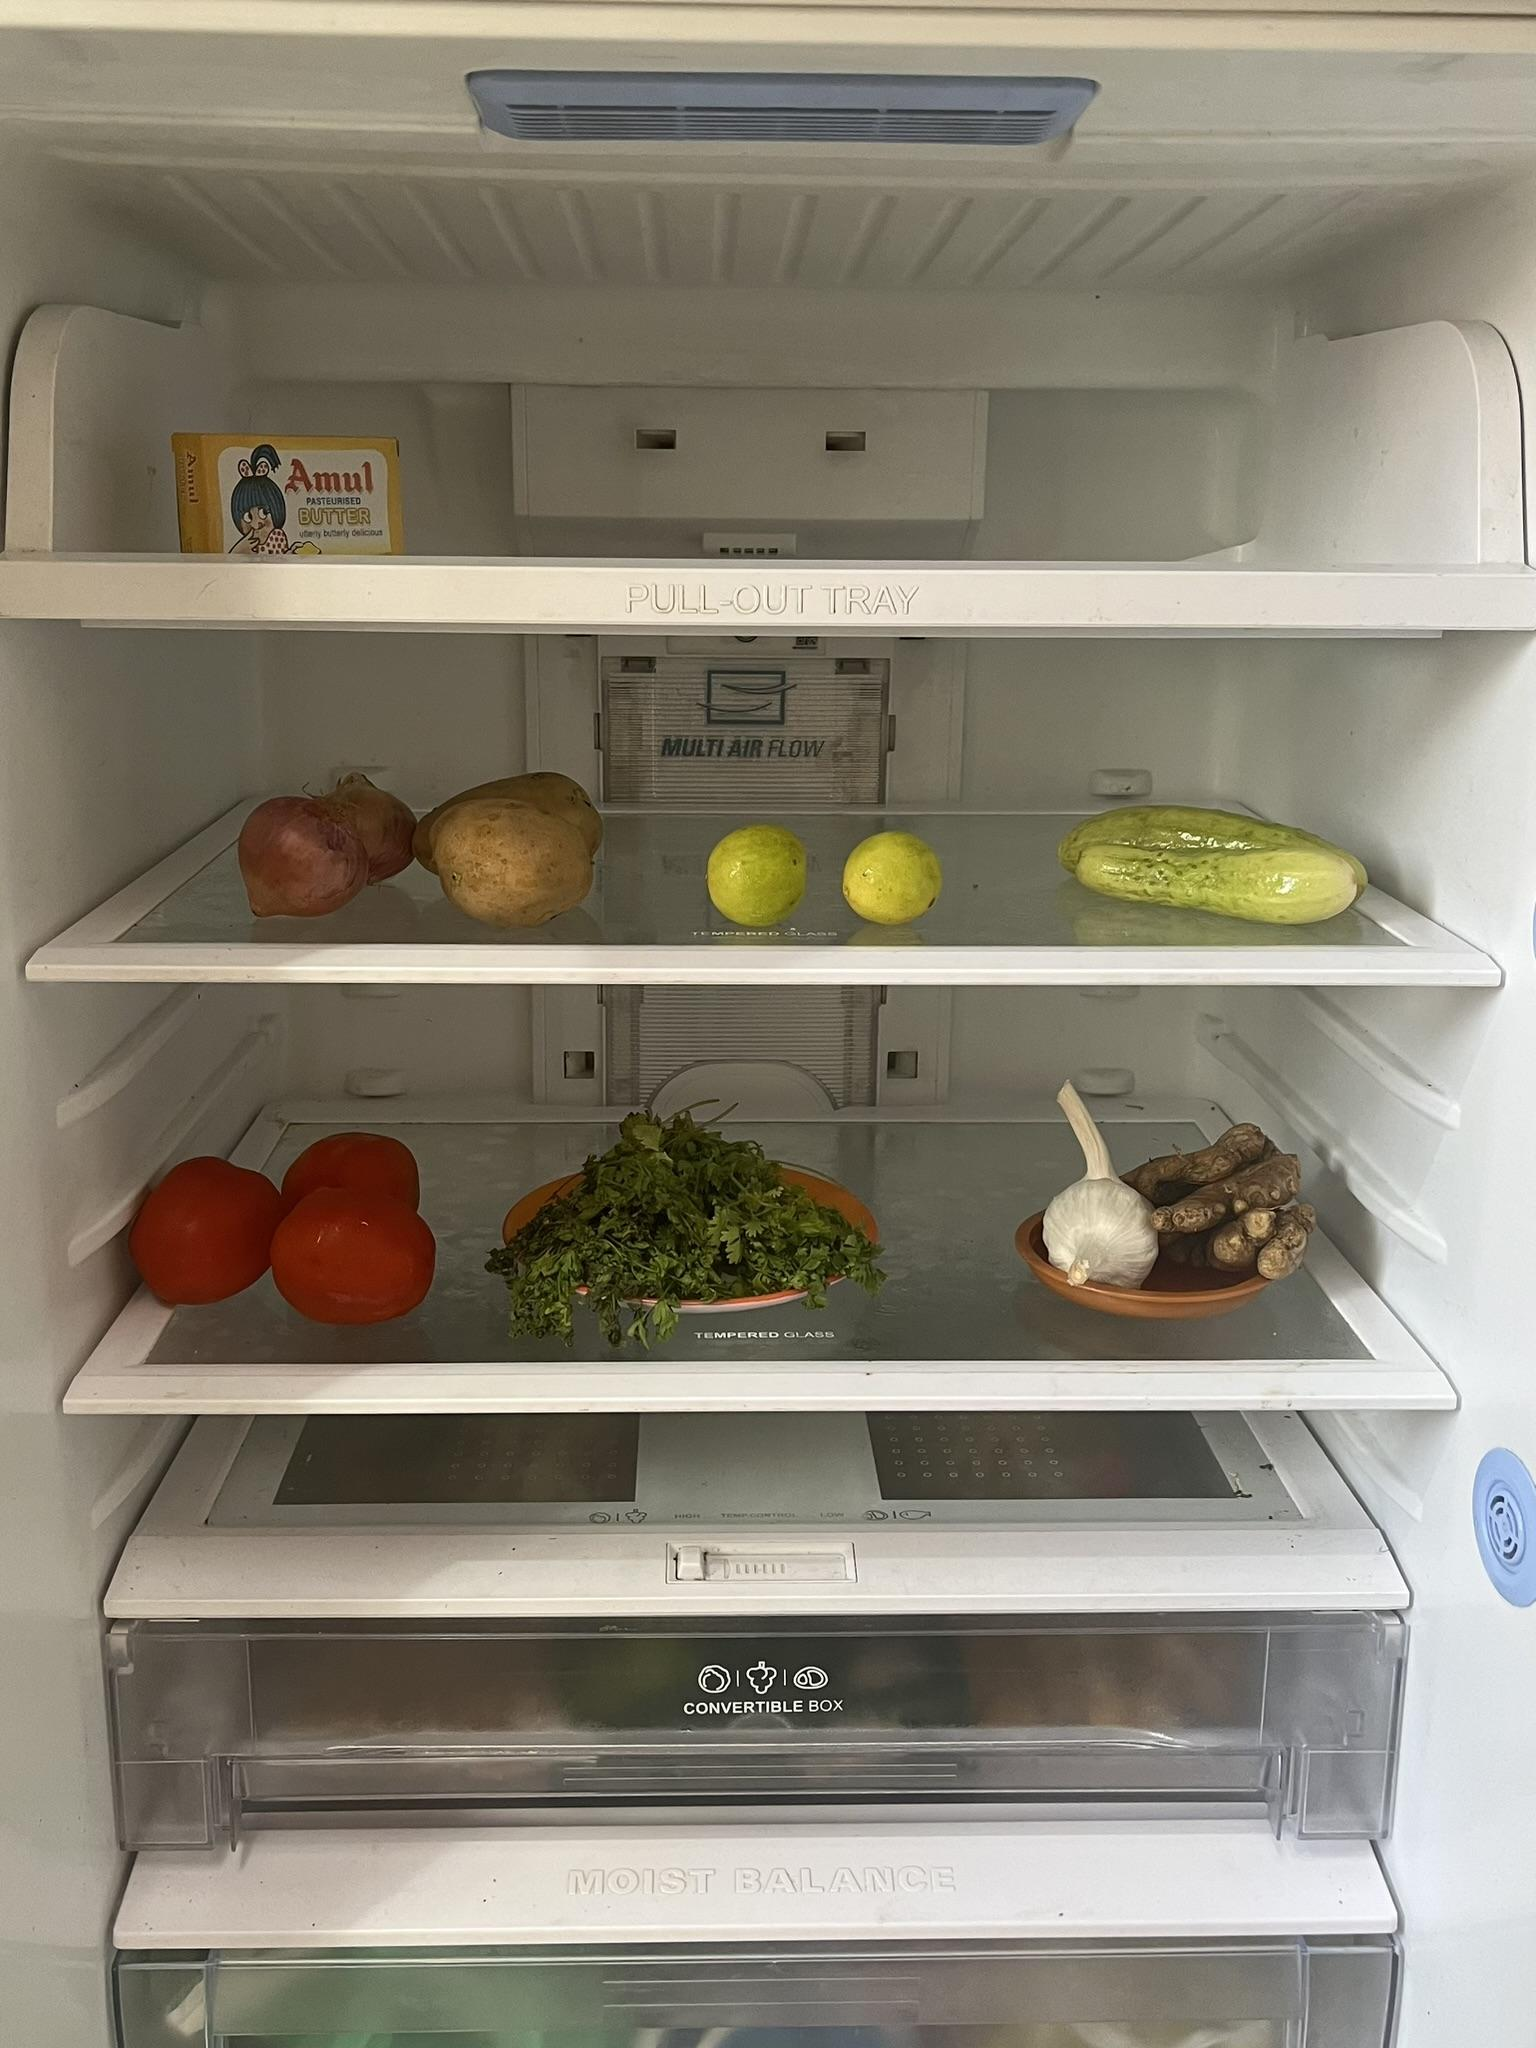butter: (176, 440, 403, 553)
coriander: (497, 1097, 876, 1309)
cucumber: (1060, 803, 1363, 921)
garlic: (1047, 1074, 1157, 1287)
ginger: (1141, 1134, 1320, 1280)
lemon: (697, 819, 813, 921), (841, 827, 941, 924)
onion: (244, 774, 419, 910)
potato: (423, 769, 600, 916)
tomato: (134, 1127, 440, 1324)
